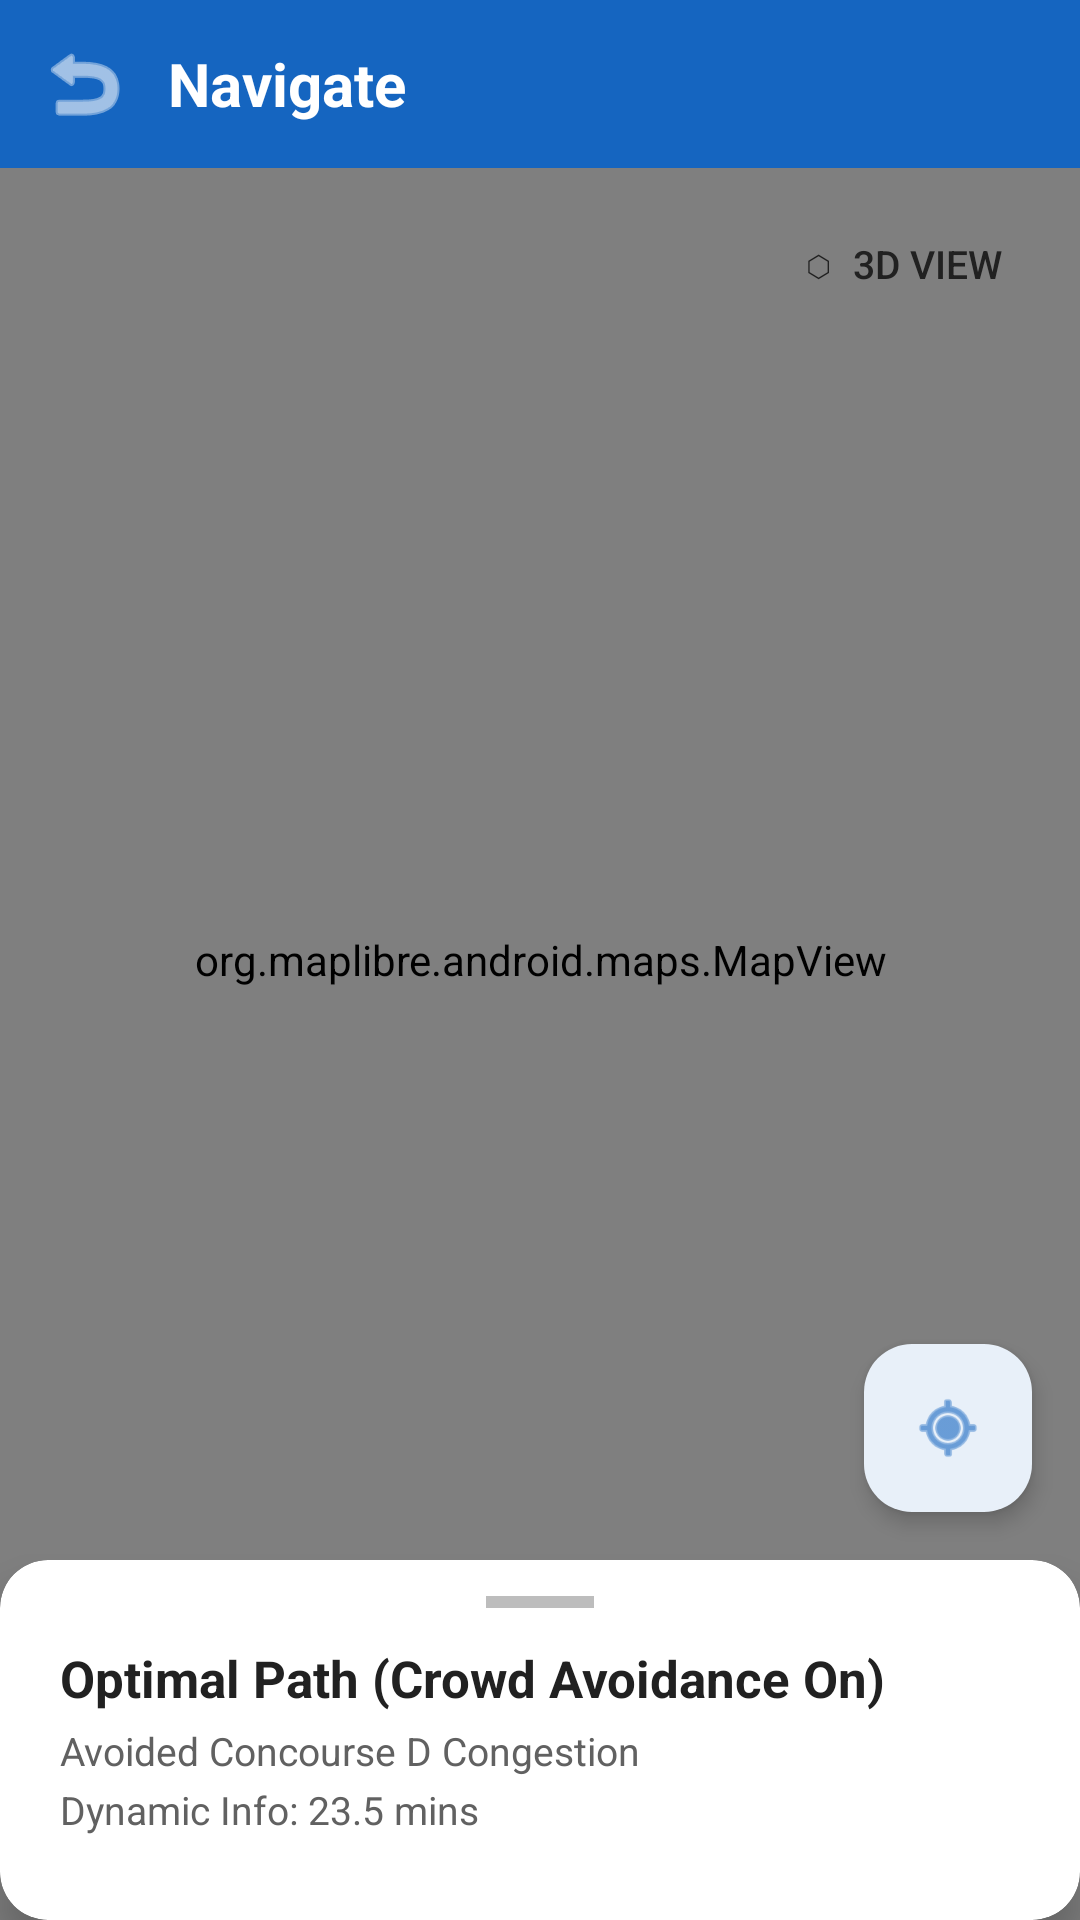

Locate icon controls on the screen. Image size 1080 × 1920, boxes as (x1, y1, x2, y2).
Back: (51, 53, 120, 116)
My Location: (864, 1344, 1032, 1512)
